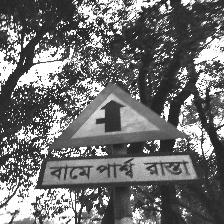Side-road-left: (37, 82, 197, 189)
